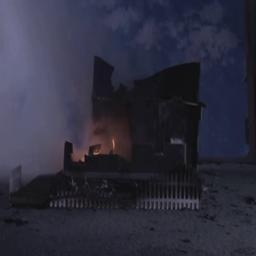smoke: (0, 0, 92, 128)
